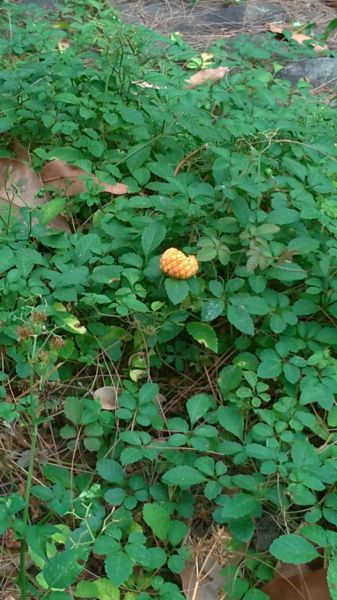eggs: (160, 247, 201, 280)
